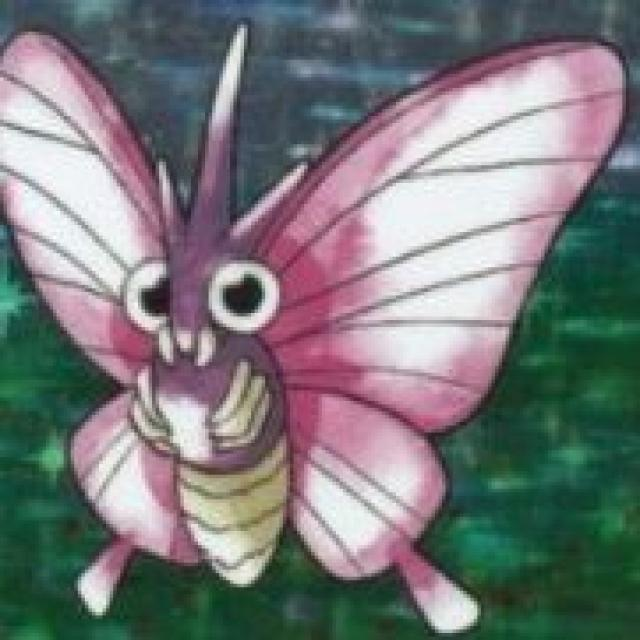Venomoth: (64, 100, 398, 611)
